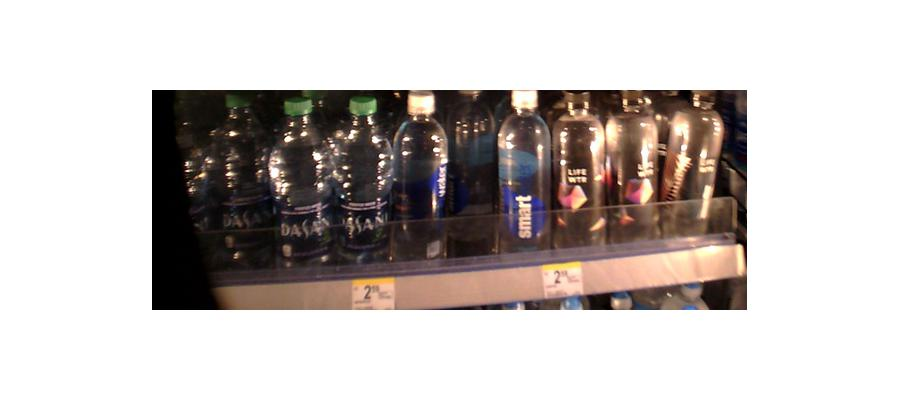bottle: (203, 100, 272, 279), (270, 92, 329, 271), (388, 92, 447, 261), (329, 93, 385, 267), (662, 91, 724, 238), (498, 90, 551, 253), (607, 87, 661, 240), (554, 92, 605, 247), (452, 90, 494, 249)
